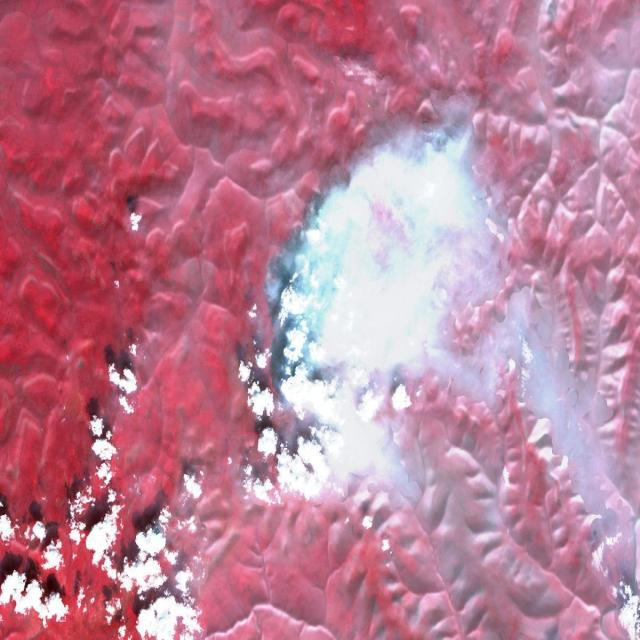fire: (261, 179, 366, 287)
